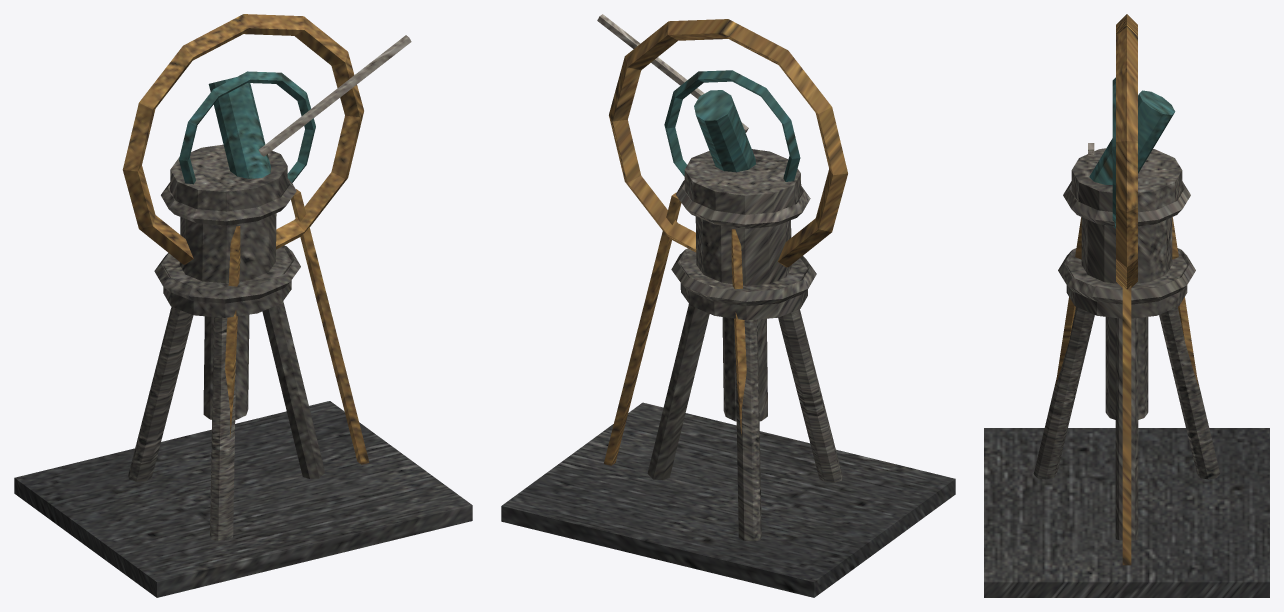
Rendered from south-return-beacon.glb.
The picture shows the model from 3 angles, left to right: view 1: azimuth 30°, elevation 25°; view 2: azimuth 150°, elevation 25°; view 3: azimuth 270°, elevation 25°; orthographic projection.
Parts seen in each view (by area): view 1: south-return-beacon; view 2: south-return-beacon; view 3: south-return-beacon.
Boxes of the visible parts, bbox=[...] form: south-return-beacon: bbox=[14, 14, 472, 597]; south-return-beacon: bbox=[501, 14, 955, 597]; south-return-beacon: bbox=[984, 14, 1269, 597].
Bounding box in the file's own units: 4.6 × 6.87 × 3.6.
Materials: 1 (1 with a texture image).
